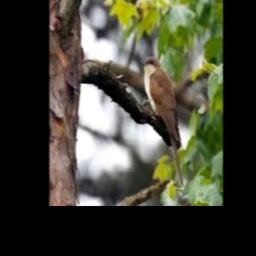Cuckoo: (141, 57, 184, 187)
